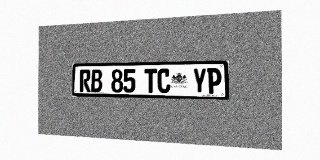5: (123, 69, 135, 93)
8: (111, 69, 123, 93)
B: (91, 69, 102, 92)
C: (157, 68, 170, 93)
P: (207, 68, 221, 94)
R: (80, 69, 91, 92)
T: (144, 69, 157, 93)
Y: (193, 68, 206, 94)
